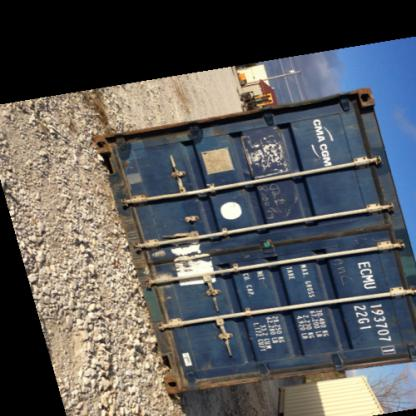Damage: (134, 228, 224, 289), (240, 129, 296, 177), (254, 181, 304, 222), (191, 364, 258, 390), (325, 220, 393, 242), (345, 86, 379, 124)
